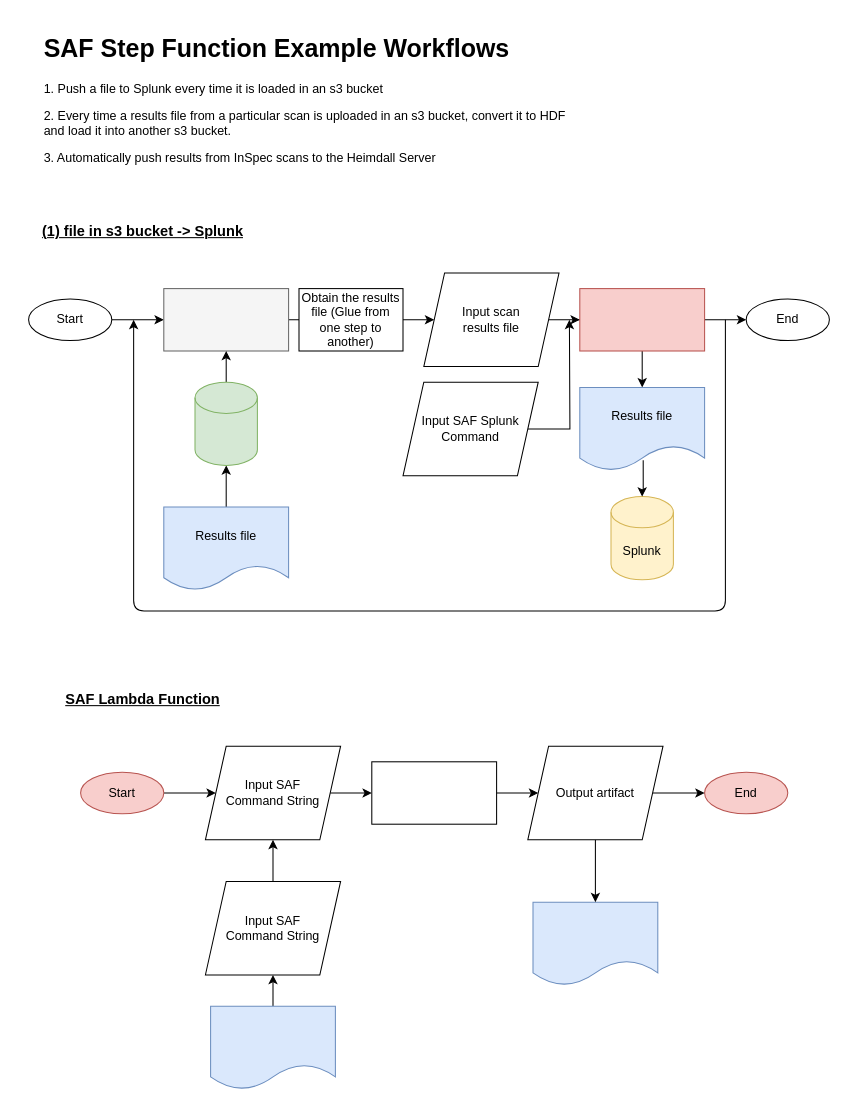
Some shapes in this 848 by 1108 pixel diagram are drawn without their labels. The shapes that lost their labels are listed below. From the top down, each one's box as (x1, y1, x2, y2) in pixels, then its label:
(163, 288, 289, 351): Watch for file uploaded in bucket Event trigger
(579, 288, 705, 351): Call SAF Lambda function with hdf2splunk
(194, 381, 257, 465): s3 Bucket
(371, 761, 497, 824): Call SAF Lambda function
(532, 901, 658, 985): The Output File
(210, 1005, 335, 1089): The Input File (s)
